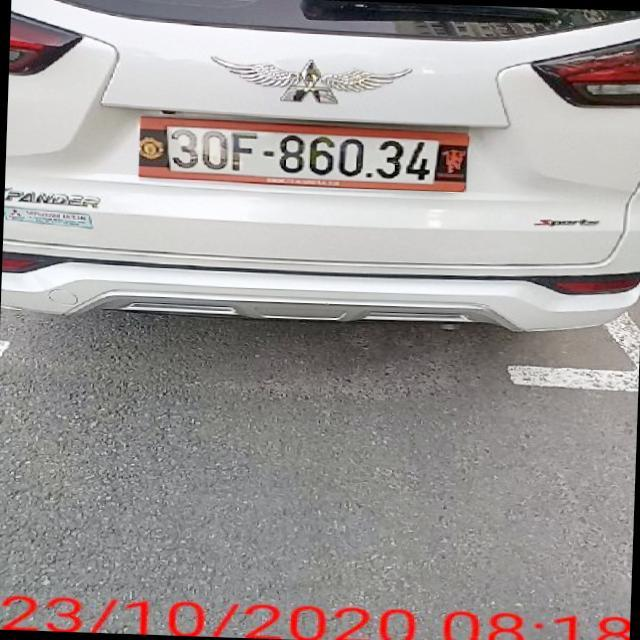car: (0, 0, 640, 341)
plate: (127, 118, 476, 195)
